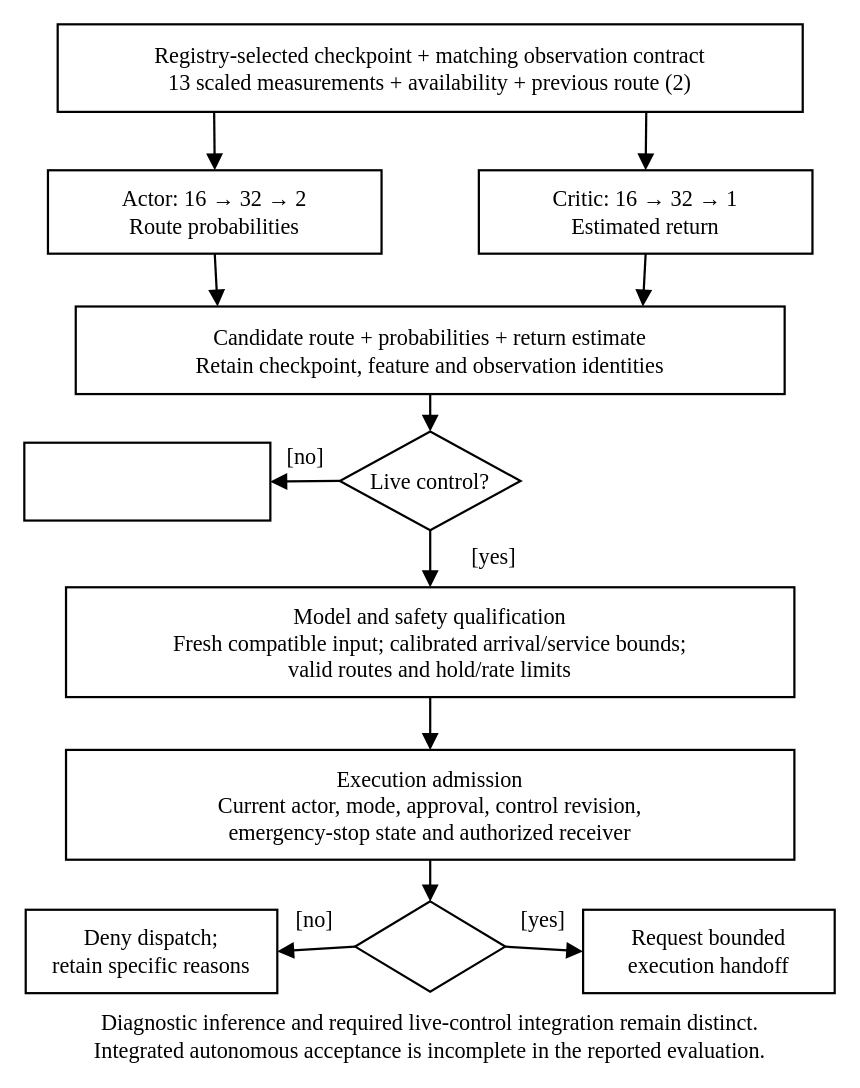
Some shapes in this 860 by 1088 pixel diagram are drawn without their labels. Here are the shapes that lost their labels. From the top down, the centre of each, then its label:
At point (147, 481): "Diagnostic replay Return outputs only".
At point (429, 946): "All pass?".
